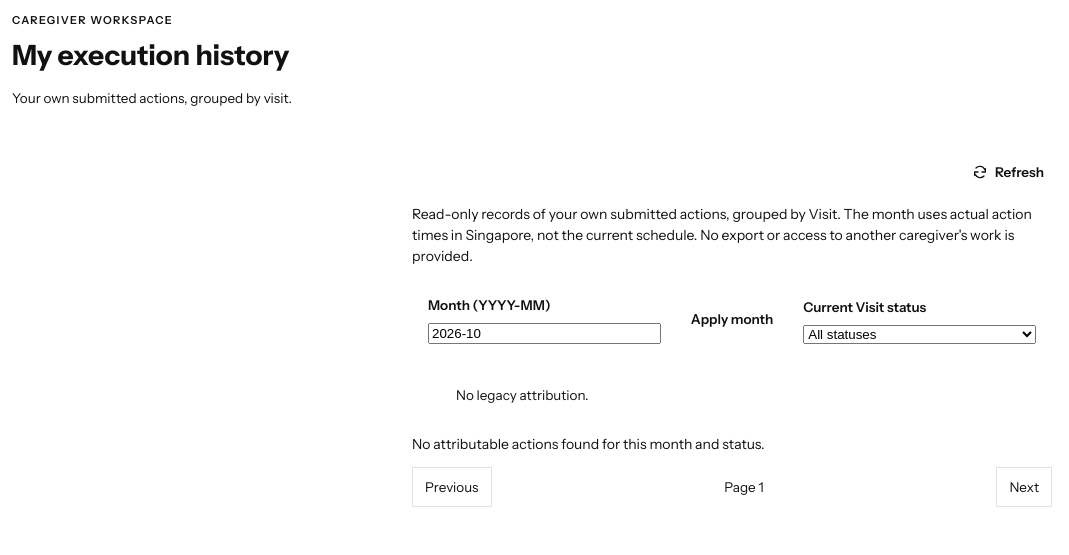
Test case: rejects invalid months without sending a query
The width and height of the screenshot is (1069, 555).
Check: the text "No legacy attribution." is shown, box [456,386,588,402]
Replace the text in the field labelled "Month (YYYY-MM)" with "2026-13" at x=544, y=333, box [428,322,661,344]
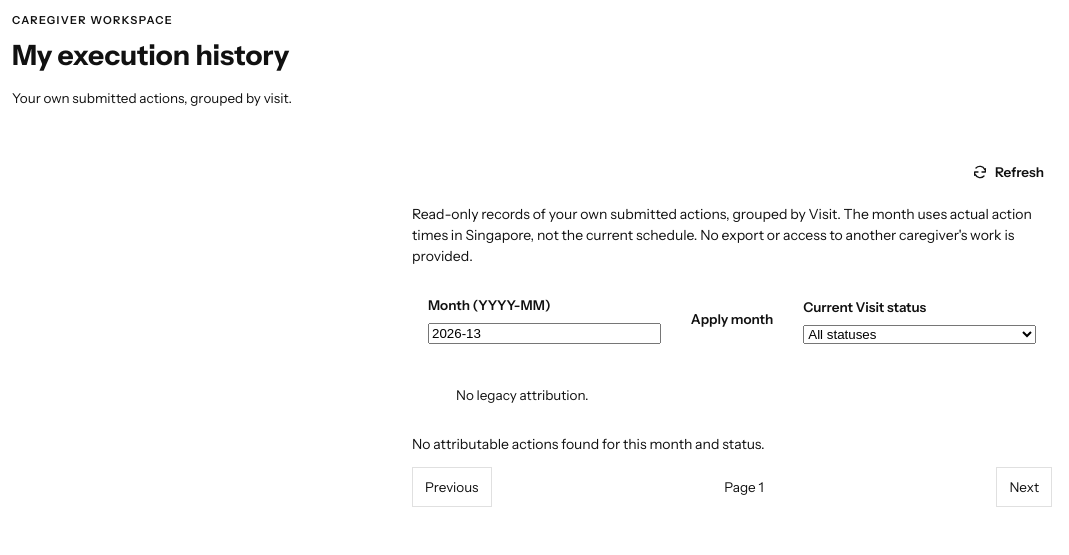
Click the button "Apply month" at x=732, y=320, box [673,296,791,344]
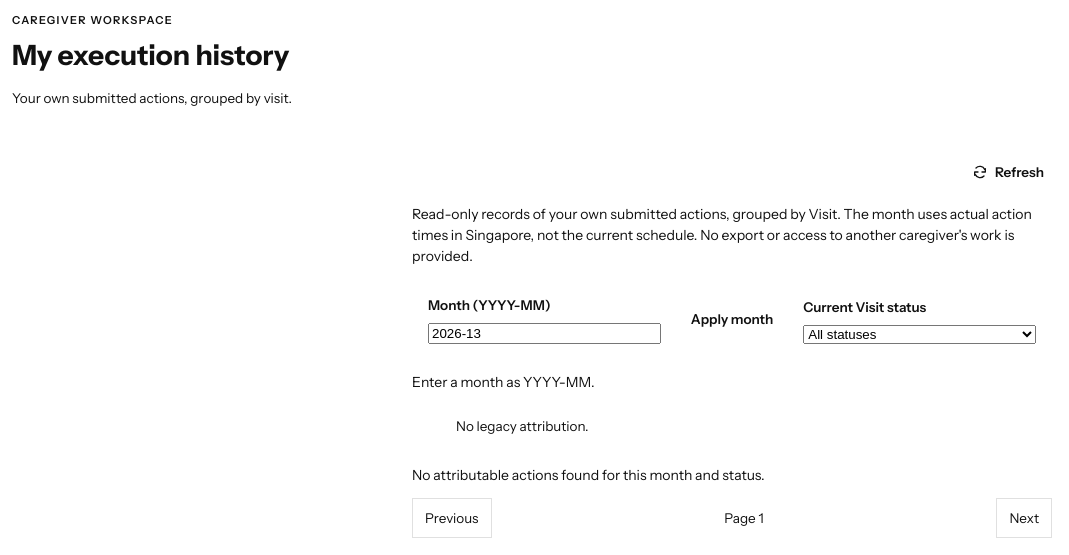
Check: the message shows "YYYY-MM", box [412,372,595,390]
